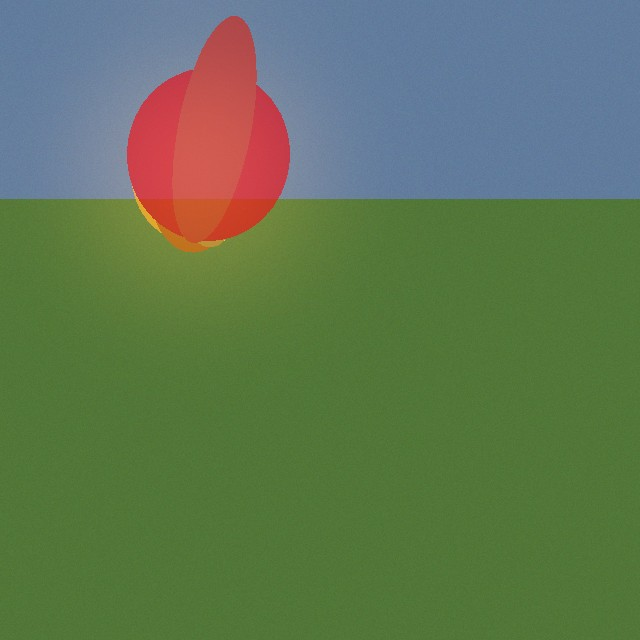fire: (137, 97, 255, 249)
